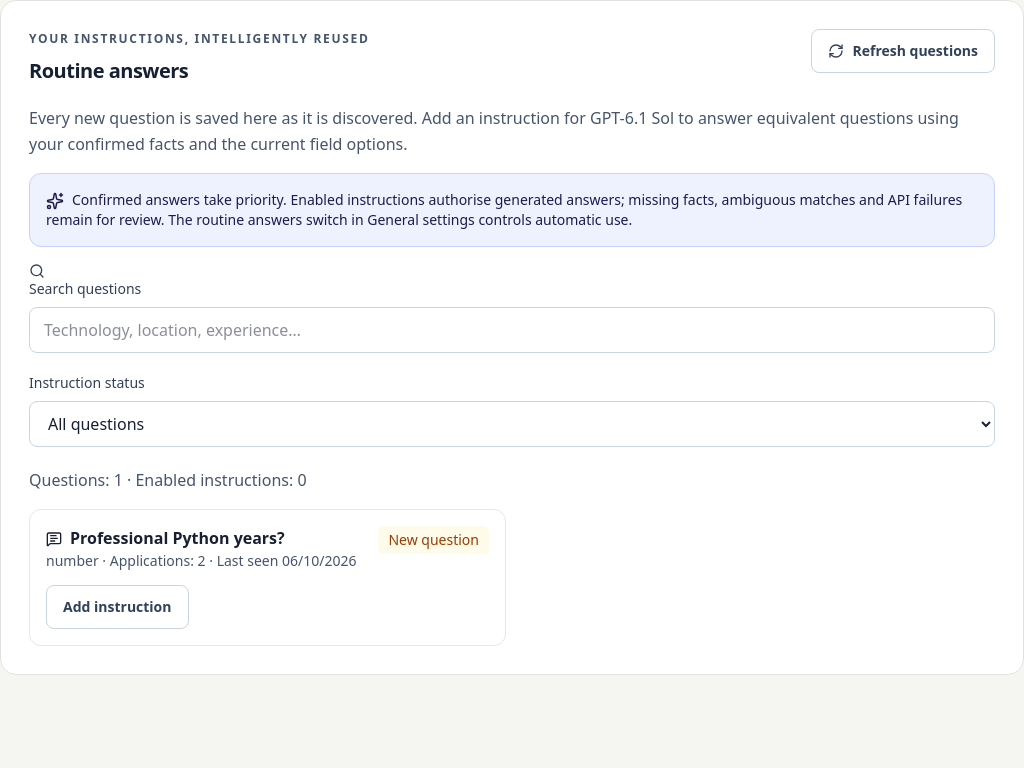
Test case: generates an editable draft with the profile revision without saving or enabling a rule
Click the button "Add instruction" at x=117, y=606, box top-left (46, 584), bottom-right (188, 628)
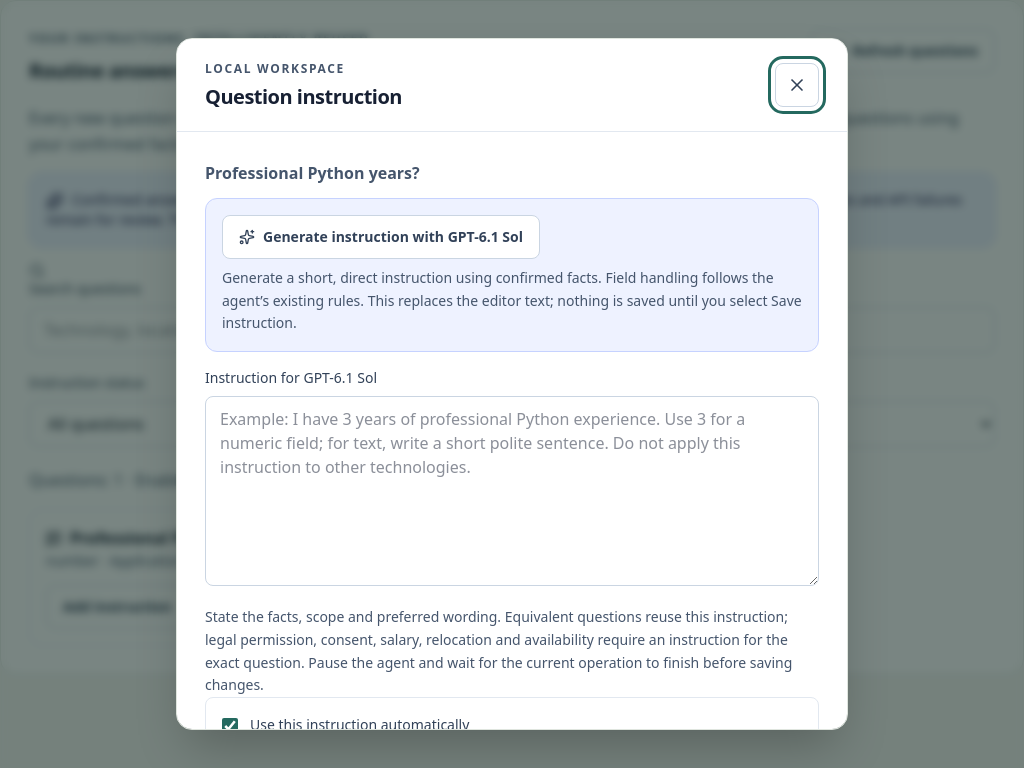
Now the text "nothing is saved until you select Save instruction" is shown, box top-left (222, 268), bottom-right (802, 332)
Click the button "Generate instruction with GPT-6.1 Sol" at x=381, y=237, box top-left (222, 215), bottom-right (540, 259)
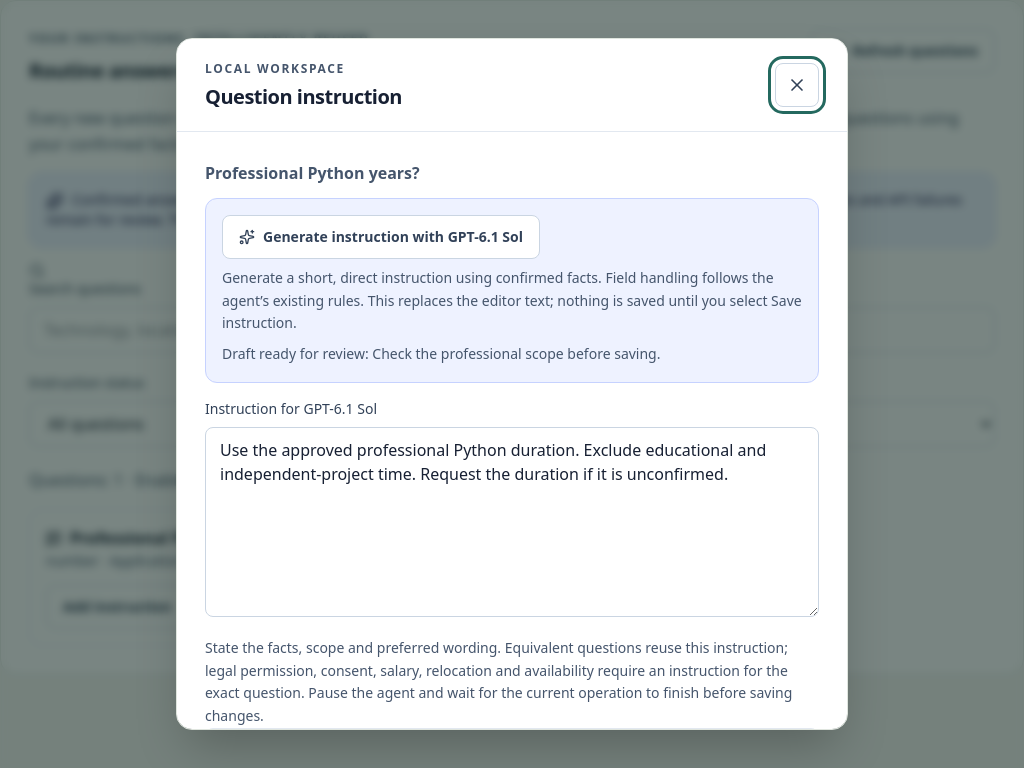
Now the text box labelled "Instruction for GPT-6.1 Sol" holds "Use the approved professional Python duration. Exclude educational and independent-project time. Request the duration if it is unconfirmed."
Replace the text in the text box labelled "Instruction for GPT-6.1 Sol" with "Candidate-edited instruction" at x=512, y=522, box top-left (205, 427), bottom-right (819, 617)
(page scrolled)
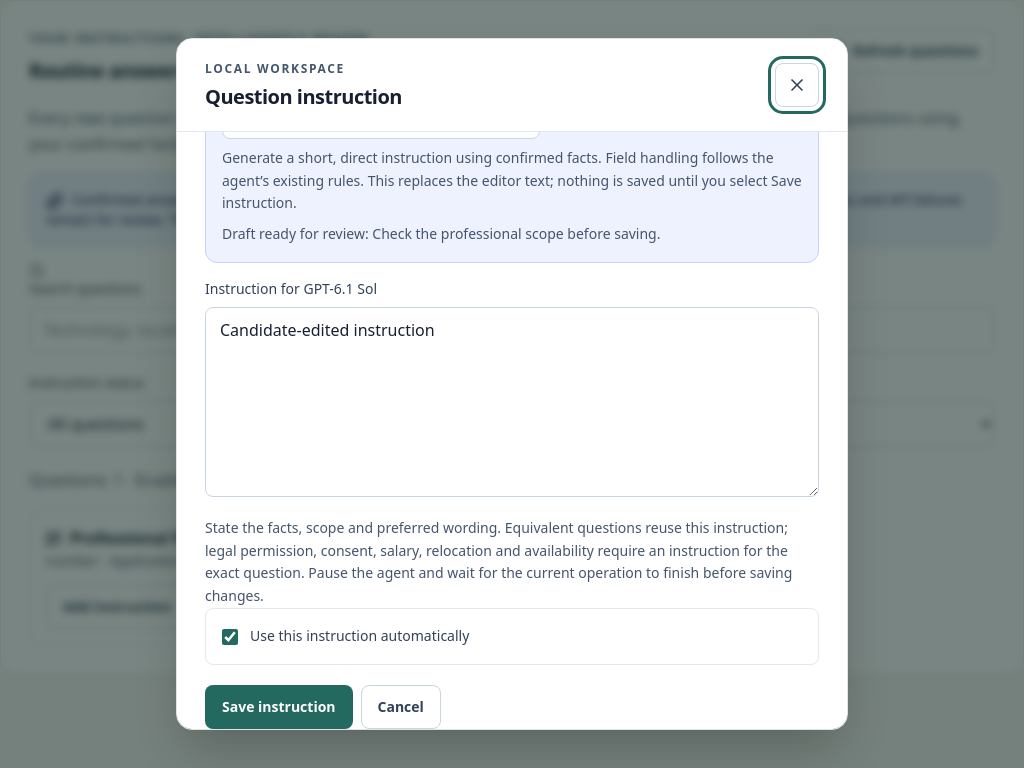
Submit the form named "Save instruction", box top-left (205, 40), bottom-right (819, 729)
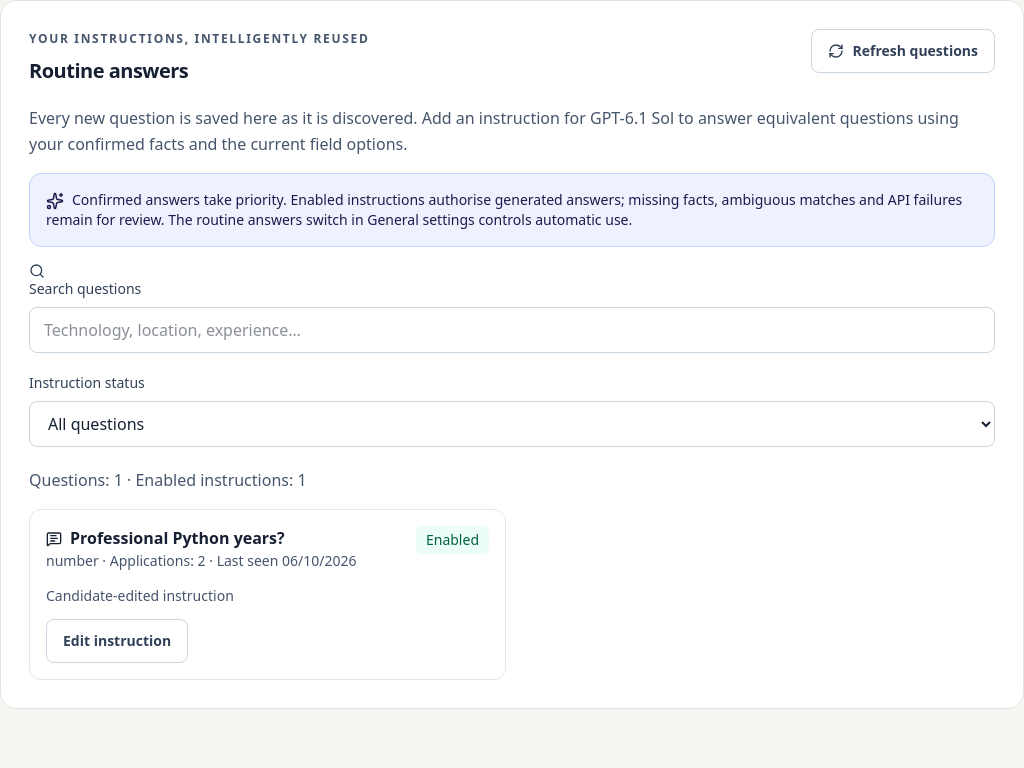
Now the dialog is gone
